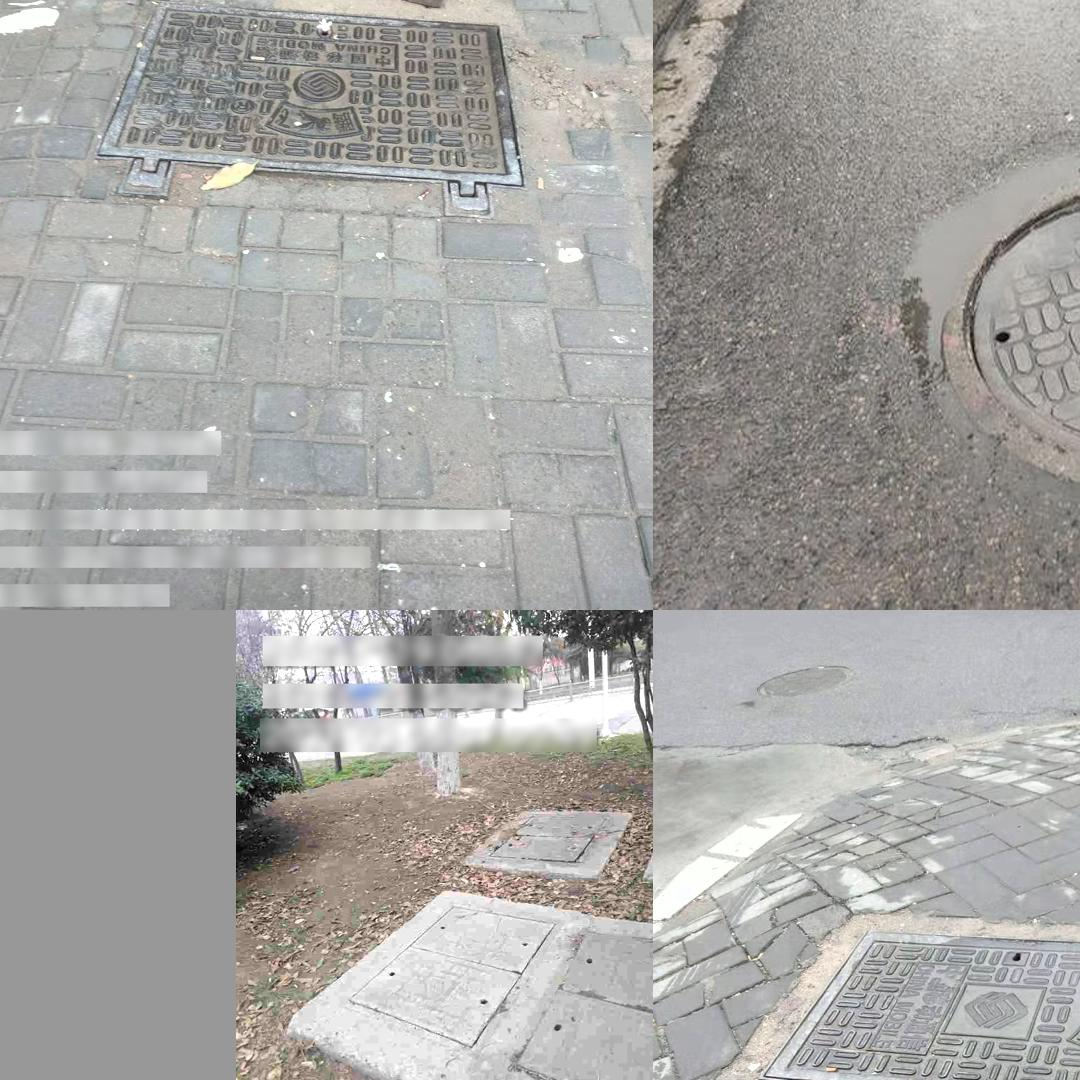good: (96, 0, 524, 219), (884, 140, 1080, 504), (754, 926, 1080, 1080), (341, 902, 561, 1055), (501, 927, 653, 1080), (484, 813, 610, 866)
